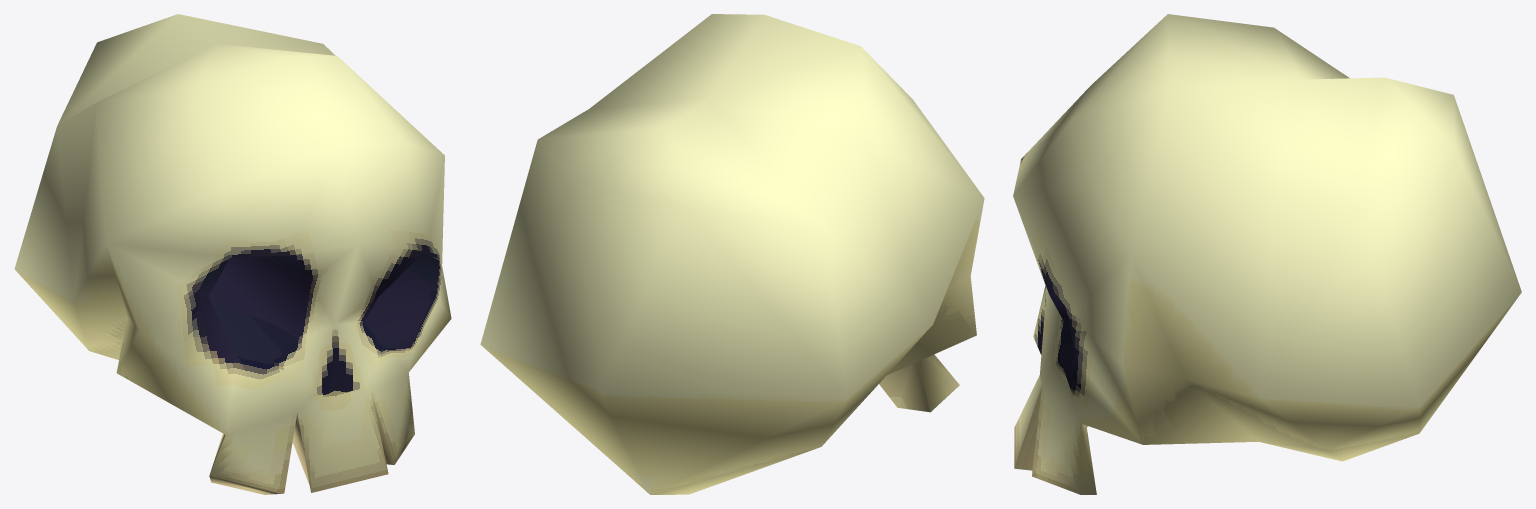
File: money-lod0.glb
The picture shows the model from 3 angles, left to right: view 1: azimuth 30°, elevation 25°; view 2: azimuth 150°, elevation 25°; view 3: azimuth 270°, elevation 25°; orthographic projection. The views are drawn at different scales.
Parts seen in each view (by area): view 1: skull; view 2: skull; view 3: skull.
Part boxes in pixels (<box>): skull: <box>14,14,451,494</box>; skull: <box>480,14,984,494</box>; skull: <box>1013,14,1521,494</box>.
Size of the model in its own units: 0.9153 by 0.9348 by 1.04.
Materials: 1 (1 with a texture image).
